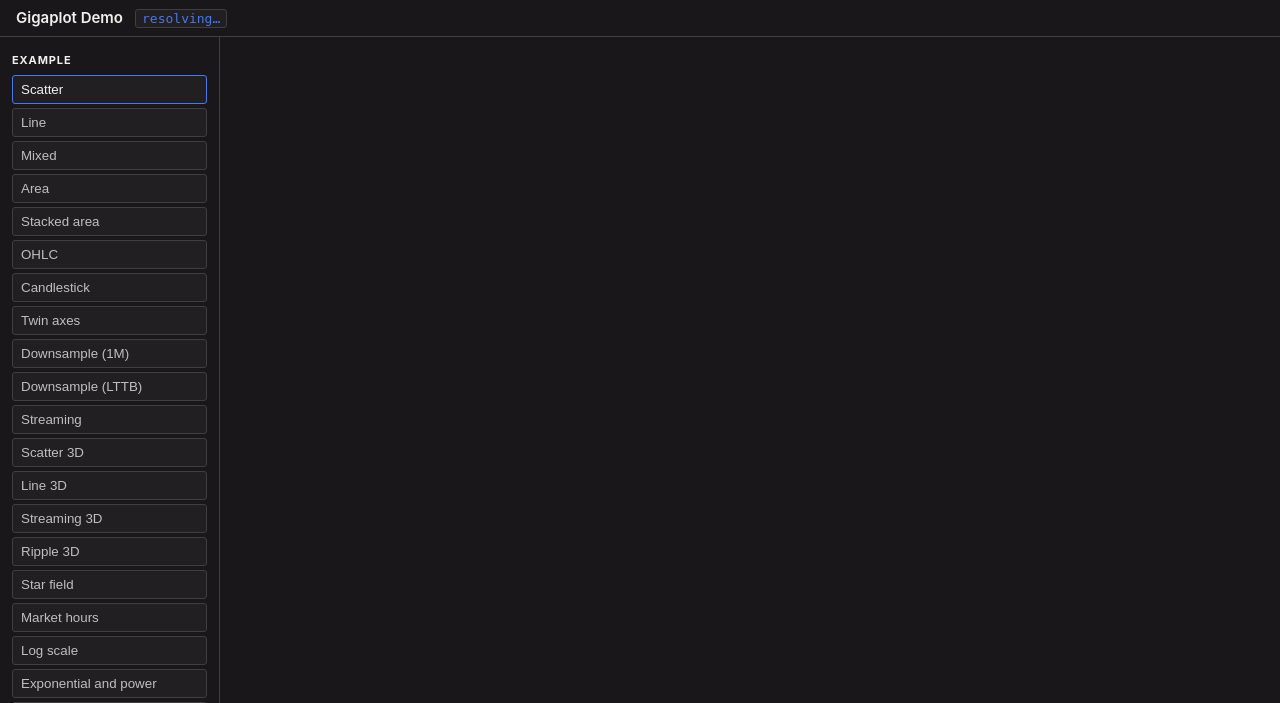
Scenario: draws the scatter-3d example as a 3D plot
Click the button "Scatter 3D" at [110, 452], box x1=12 y1=438 x2=207 y2=467
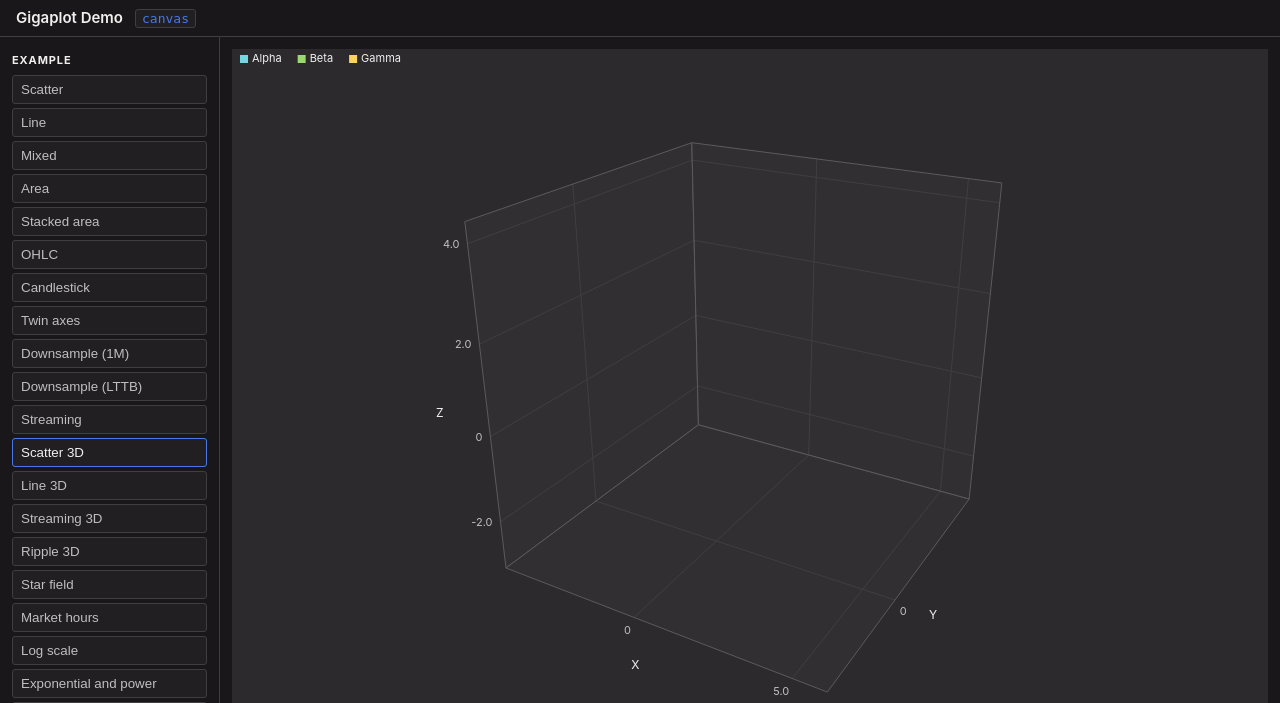
Now the text with test id "active-renderer" reads "canvas", box x1=142 y1=11 x2=189 y2=26
